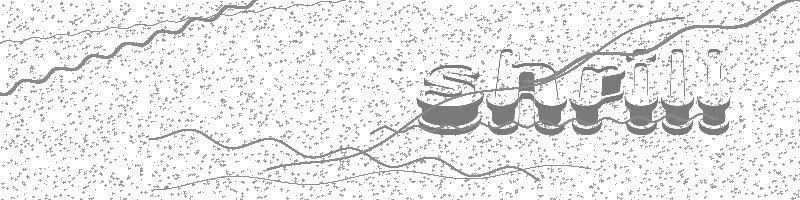h: (485, 47, 568, 135)
i: (624, 47, 660, 137)
l: (696, 47, 732, 138), (660, 47, 695, 137)
r: (567, 64, 625, 138)
s: (412, 62, 486, 136)
